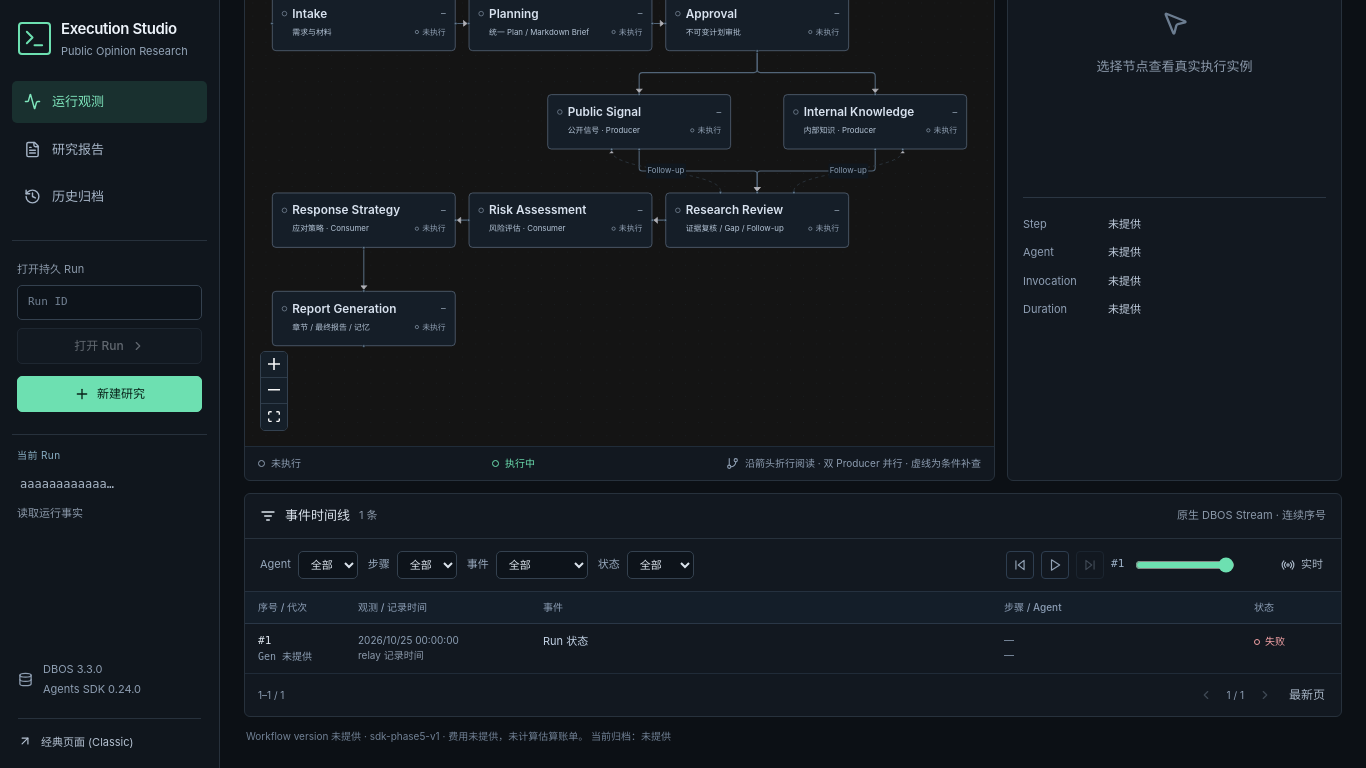
Test case: keeps all mutations disabled during read-only replay
(page scrolled)
Set the slider named "回放游标" to "0". click: (1143, 565)
box: top-left (1135, 556), bottom-right (1235, 574)
(page scrolled)
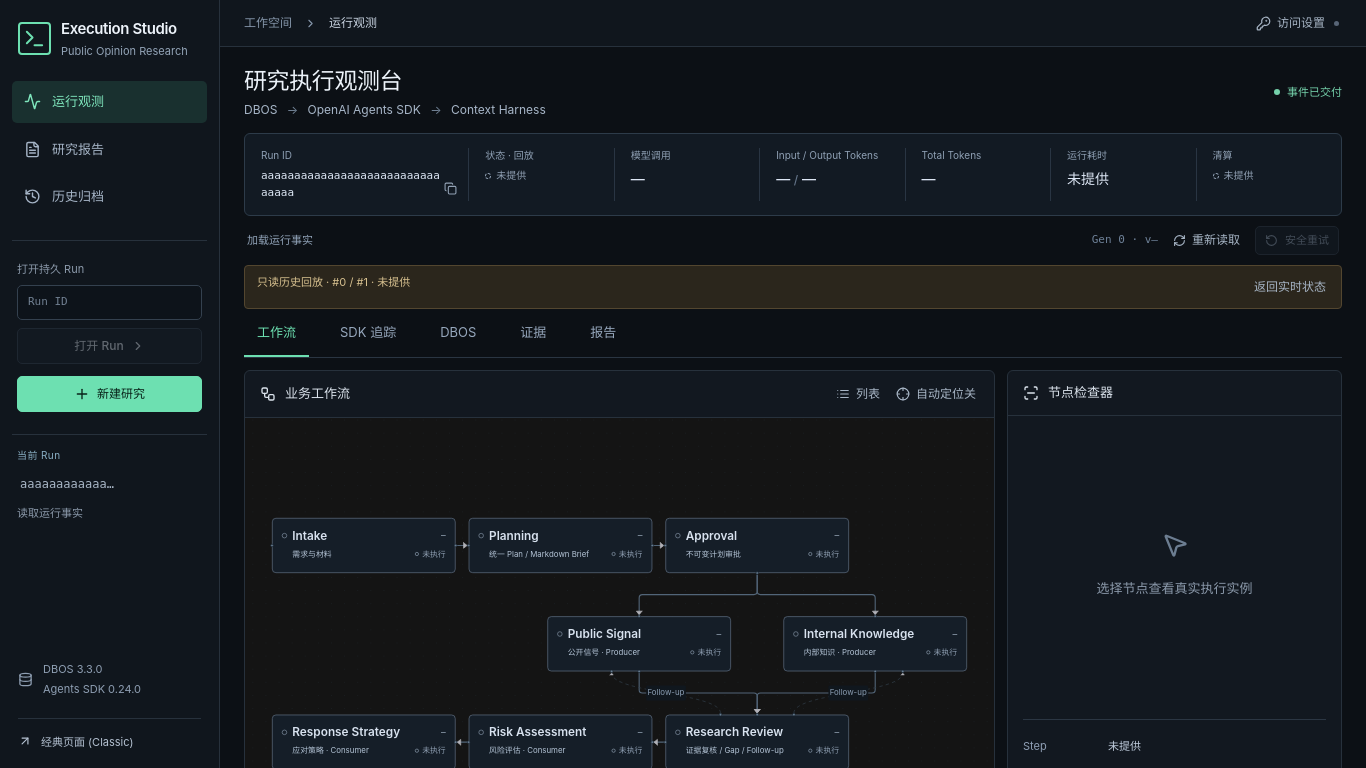
Check: the button "安全重试" is disabled, box top-left (1255, 226), bottom-right (1339, 255)
